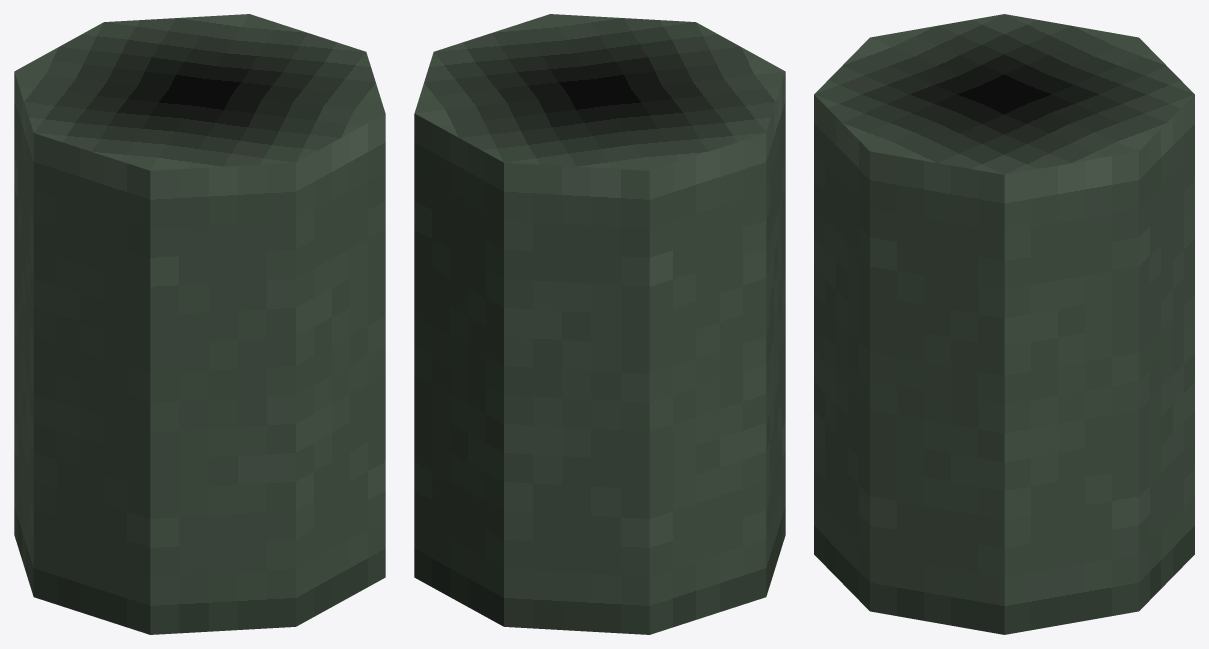
The model's file is pipe_green.obj.
3 views of the same model, side by side, from view 1: azimuth 30°, elevation 25°; view 2: azimuth 150°, elevation 25°; view 3: azimuth 270°, elevation 25° (orthographic).
Parts seen in each view (by area): view 1: Side, Top; view 2: Side, Top; view 3: Side, Top.
Boxes of the visible parts, bbox=[...] form: Side: bbox=[14, 71, 385, 634]; Top: bbox=[14, 14, 385, 170]; Side: bbox=[414, 71, 785, 634]; Top: bbox=[414, 14, 785, 170]; Side: bbox=[814, 94, 1194, 634]; Top: bbox=[814, 14, 1194, 174].
Bounding box in the file's own units: 0.75 × 1 × 0.75.
